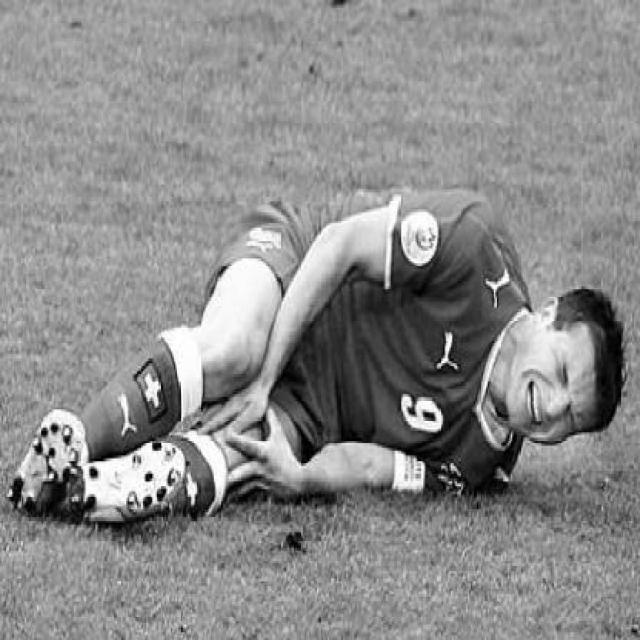fall: (8, 143, 623, 551)
